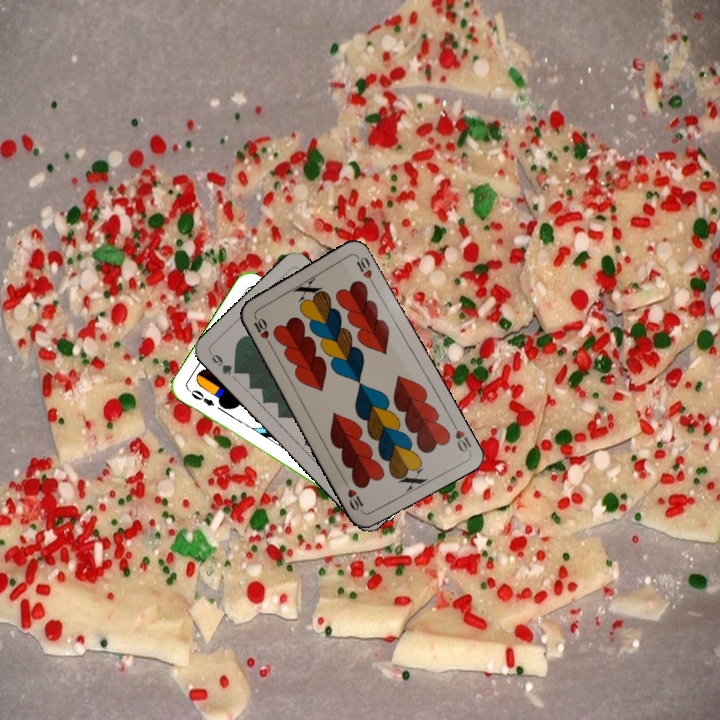EO: (184, 385, 217, 409)
G9: (206, 349, 243, 377)
H10: (447, 417, 474, 455), (250, 312, 274, 349)
